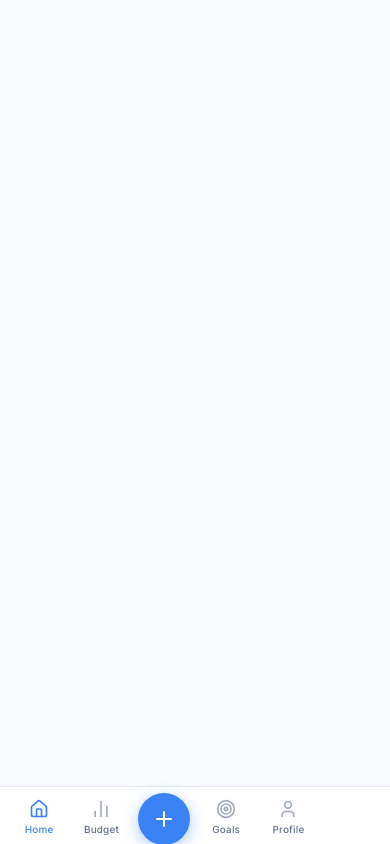
Scenario: FabRadial › closes radial when scrim is clicked
Click the button with class "bottom-tab-bar__fab" at (164, 819), box [138,793,190,843]
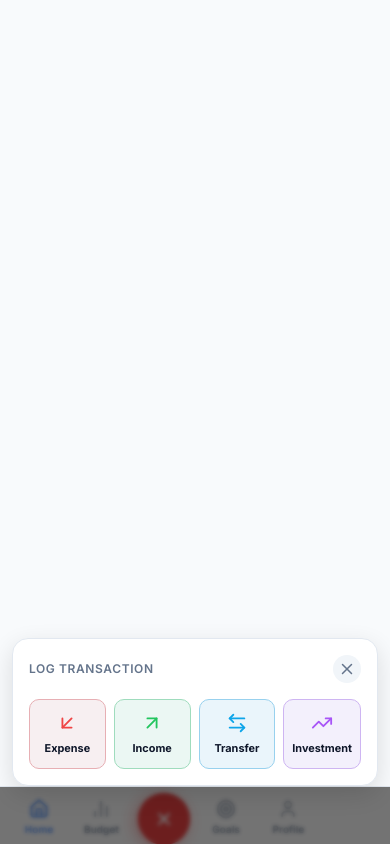
Click the element with class "fab-scrim" at (195, 816), box [0,787,389,843]
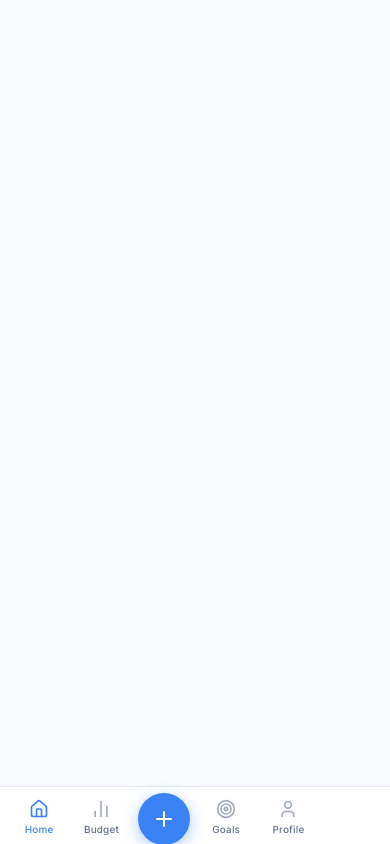
Expected: the button "Expense" is gone
